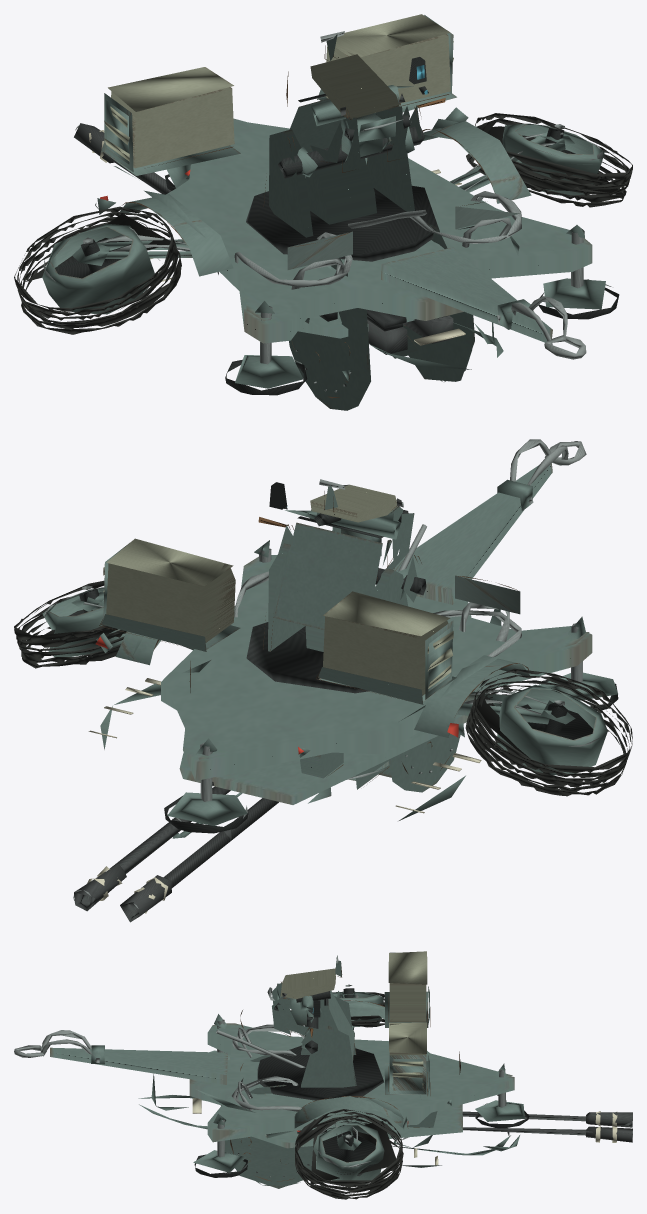
The picture shows the model from 3 angles, top to bottom: view 1: azimuth 30°, elevation 25°; view 2: azimuth 150°, elevation 25°; view 3: azimuth 270°, elevation 25°; orthographic projection. The views are drawn at different scales.
Parts seen in each view (by area): view 1: body|Olive_enamel, turret|Faded_olive, turret|Olive_enamel, body|Tire_rubber, body|Dark_steel, cradle|Olive_enamel, turret|Edge_steel, body|Edge_steel, cradle|Blued_steel, turret|Seat_back, turret|Dark_steel, cradle|Dark_steel; view 2: body|Olive_enamel, turret|Olive_enamel, turret|Faded_olive, body|Tire_rubber, body|Dark_steel, cradle|Blued_steel, cradle|Olive_enamel, body|Edge_steel, turret|Edge_steel, turret|Seat_back, turret|Dark_steel, turret|Ivory_marking; view 3: body|Olive_enamel, turret|Olive_enamel, turret|Faded_olive, body|Dark_steel, body|Tire_rubber, cradle|Olive_enamel, cradle|Blued_steel, body|Edge_steel, turret|Edge_steel, turret|Dark_steel, cradle|Edge_steel.
Part boxes in pixels (left/top/right/bottom): body|Olive_enamel: left=42, top=107, right=605, bottom=388; turret|Faded_olive: left=104, top=14, right=453, bottom=168; turret|Olive_enamel: left=100, top=15, right=503, bottom=369; body|Tire_rubber: left=14, top=113, right=632, bottom=334; body|Dark_steel: left=55, top=128, right=619, bottom=395; cradle|Olive_enamel: left=289, top=223, right=474, bottom=410; turret|Edge_steel: left=217, top=31, right=521, bottom=289; body|Edge_steel: left=43, top=124, right=611, bottom=364; cradle|Blued_steel: left=74, top=123, right=453, bottom=354; turret|Seat_back: left=287, top=206, right=520, bottom=269; turret|Dark_steel: left=278, top=57, right=474, bottom=229; cradle|Dark_steel: left=297, top=309, right=448, bottom=391; body|Olive_enamel: left=42, top=463, right=617, bottom=825; turret|Olive_enamel: left=100, top=485, right=501, bottom=820; turret|Faded_olive: left=103, top=484, right=453, bottom=695; body|Tire_rubber: left=14, top=580, right=632, bottom=796; body|Dark_steel: left=54, top=589, right=618, bottom=833; cradle|Blued_steel: left=74, top=786, right=278, bottom=922; cradle|Olive_enamel: left=172, top=733, right=460, bottom=838; body|Edge_steel: left=44, top=439, right=599, bottom=818; turret|Edge_steel: left=234, top=479, right=521, bottom=779; turret|Seat_back: left=455, top=575, right=520, bottom=614; turret|Dark_steel: left=269, top=482, right=426, bottom=595; turret|Ivory_marking: left=88, top=678, right=481, bottom=813; body|Olive_enamel: left=50, top=991, right=524, bottom=1184; turret|Olive_enamel: left=138, top=952, right=462, bottom=1167; turret|Faded_olive: left=280, top=951, right=427, bottom=1088; body|Dark_steel: left=194, top=988, right=529, bottom=1177; body|Tire_rubber: left=295, top=992, right=403, bottom=1199; cradle|Olive_enamel: left=221, top=1055, right=519, bottom=1188; cradle|Blued_steel: left=462, top=1111, right=632, bottom=1142; body|Edge_steel: left=14, top=984, right=506, bottom=1173; turret|Edge_steel: left=231, top=955, right=408, bottom=1139; turret|Dark_steel: left=240, top=985, right=330, bottom=1133; cradle|Edge_steel: left=216, top=1030, right=632, bottom=1177.
Bounding box in the file's own units: 3.55 × 1.86 × 4.88.
26 materials, 22 textured.
